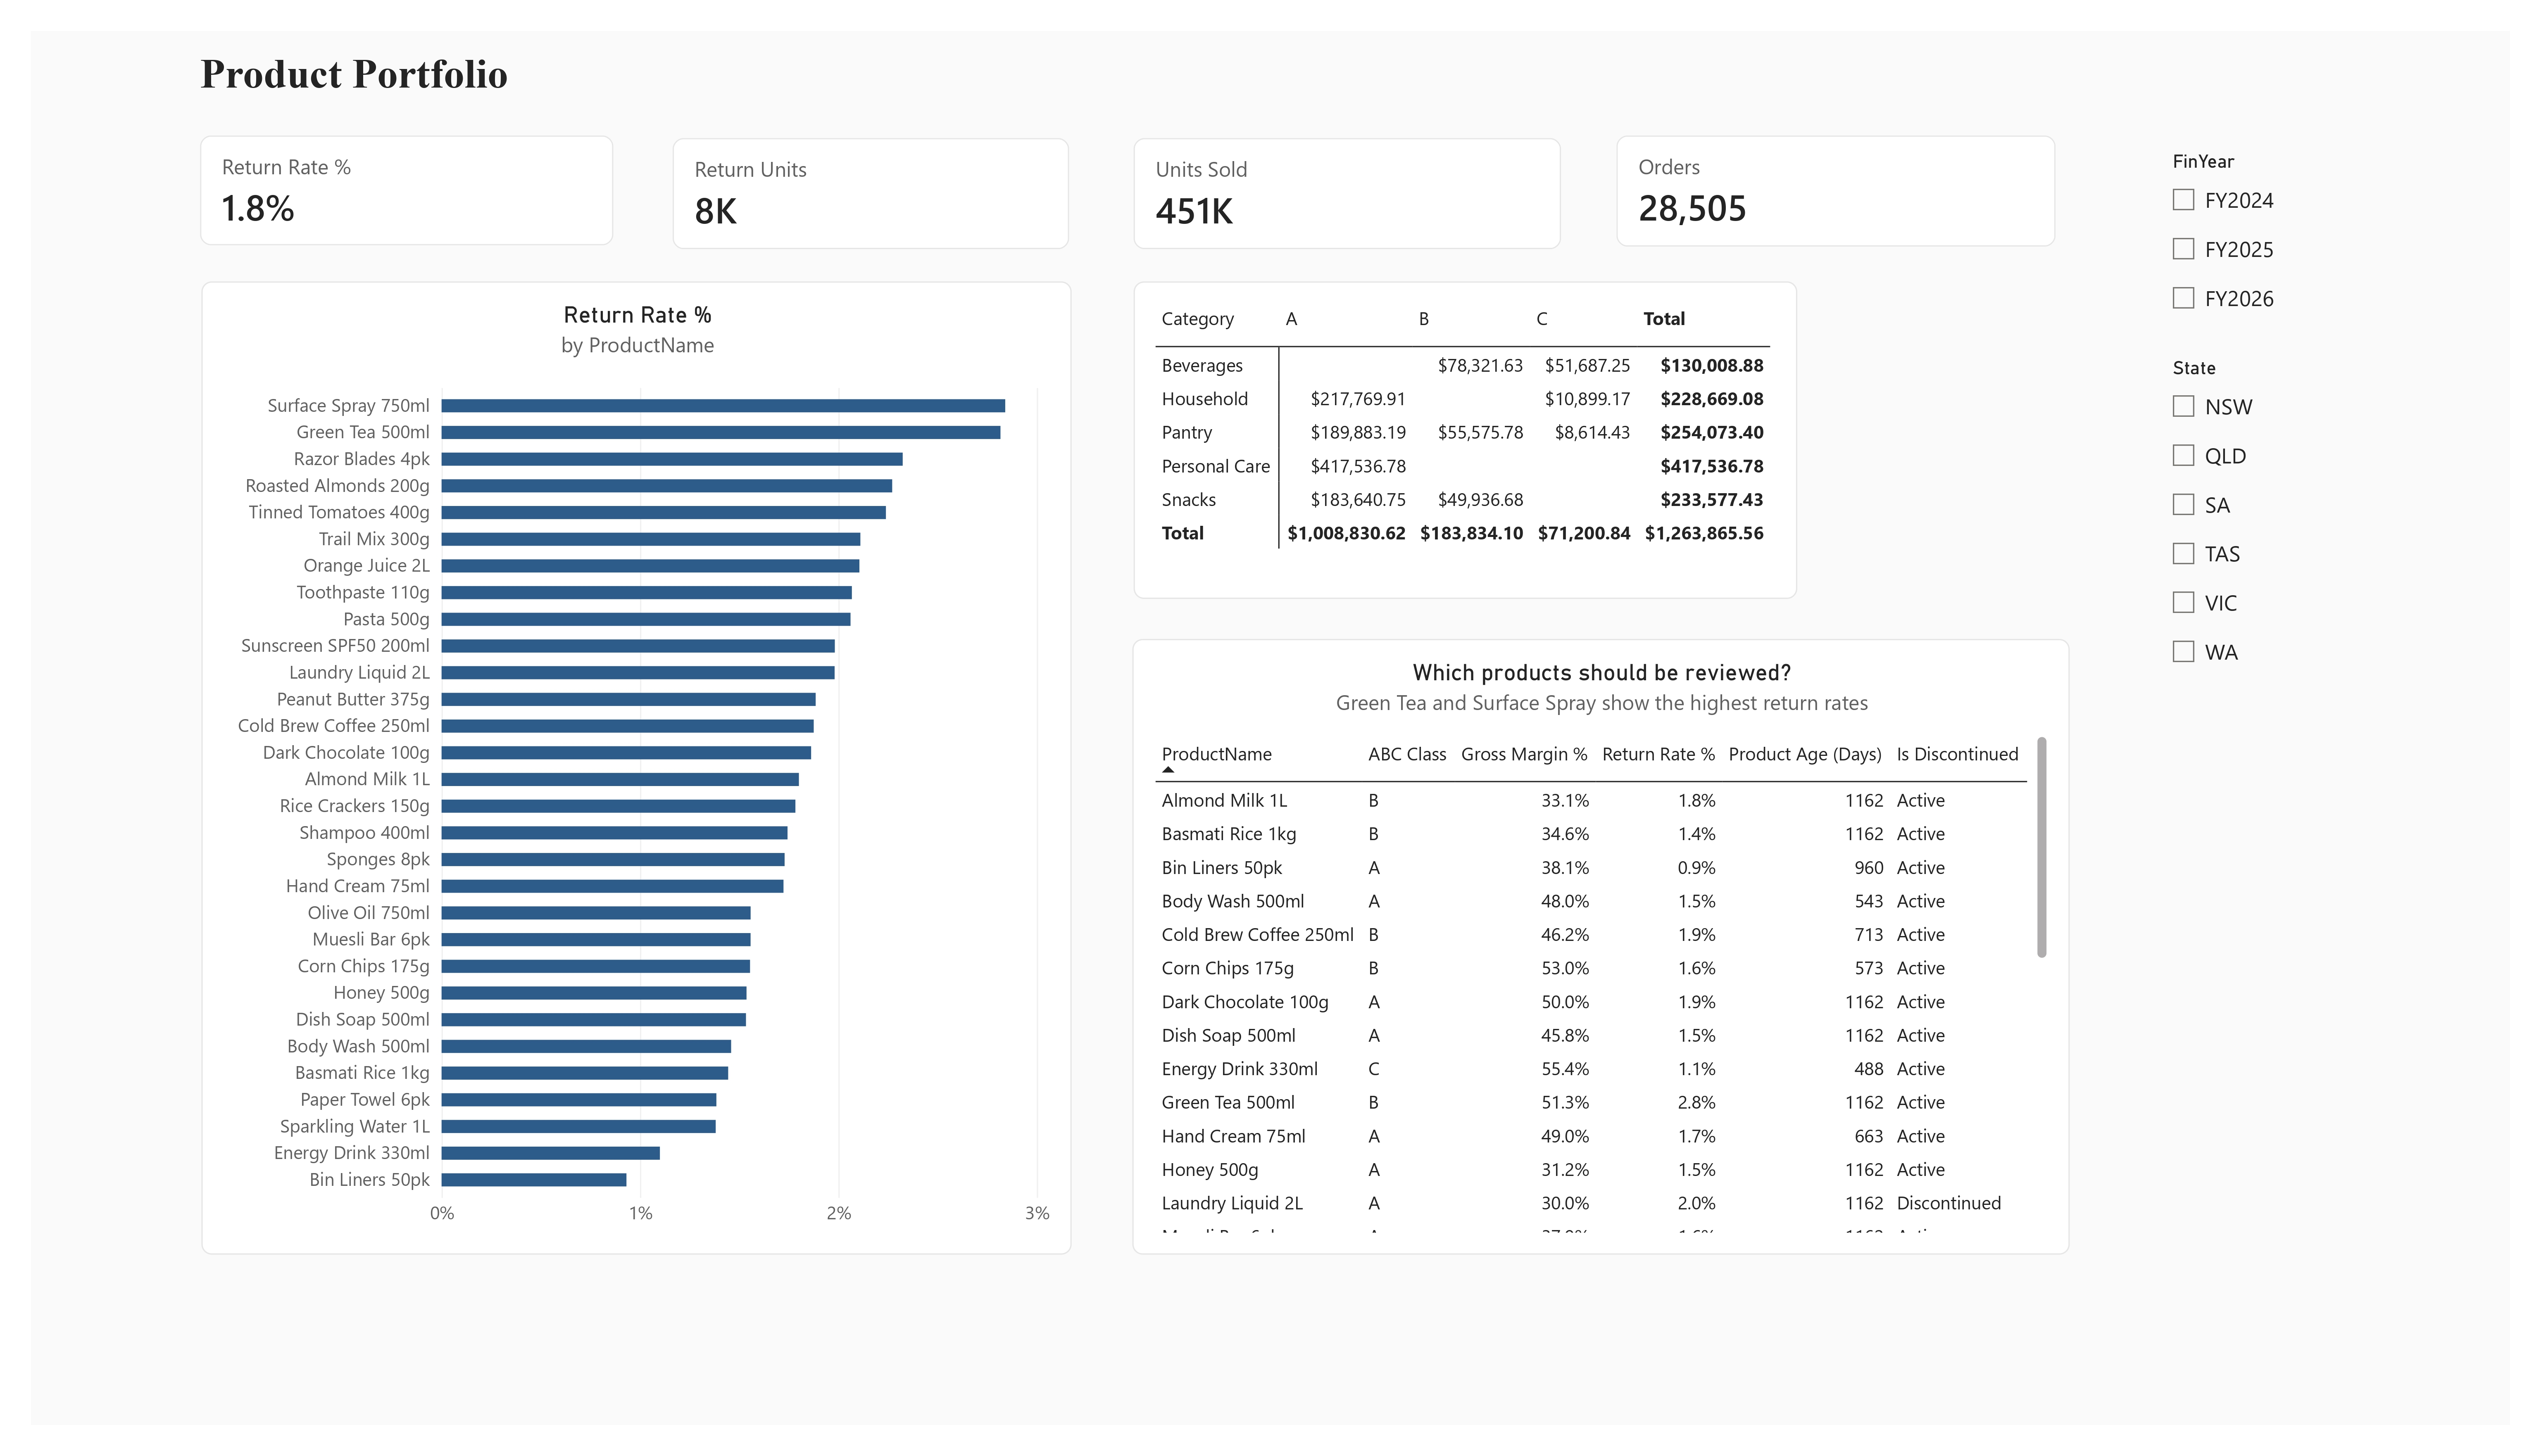

The dashboard page shown, as its layout file describes it:
{"tool":"powerbi","page":{"name":"Product Portfolio","canvas":[1920,1080],"ordinal":4},"visuals":[{"type":"cardVisual","fields":{"Data":["_Measures.Return Rate %"]},"box":[130.7,81,320.2,84.7],"z":0},{"type":"clusteredBarChart","fields":{"Category":["DimProduct.ProductName"],"Y":["_Measures.Return Rate %"]},"box":[132,194,674,754],"z":1000},{"type":"pivotTable","fields":{"Columns":["DimProduct.ABC Class"],"Rows":["DimProduct.Category"],"Values":["_Measures.Gross Profit"]},"box":[854,194,514,246],"z":2000},{"type":"tableEx","title":"Which products should be reviewed?","fields":{"Values":["DimProduct.ProductName","DimProduct.ABC Class","_Measures.Gross Margin %","_Measures.Return Rate %","_Measures.Product Age (Days)","_Measures.Is Discontinued"]},"box":[853.3,470.9,725.8,477],"z":3000},{"type":"textbox","box":[130.7,14.7,1130.1,40.5],"z":4000},{"type":"cardVisual","fields":{"Data":["_Measures.Return Units"]},"box":[496.9,82.8,307.4,86.5],"z":5000},{"type":"cardVisual","fields":{"Data":["_Measures.Orders"]},"box":[1227.6,81,340,86.4],"z":6000},{"type":"cardVisual","fields":{"Data":["_Measures.Units Sold"]},"box":[854,82.8,331.3,86.5],"z":7000},{"type":"slicer","fields":{"Values":["DimDate.FinYear"]},"box":[1651.1,92.5,230,150],"z":8000},{"type":"slicer","fields":{"Values":["DimCustomer.State"]},"box":[1651.1,252.9,230.3,263.2],"z":9000}]}

Visuals, with their boxes on the page's 1920x1080 design canvas (x1, y1, x2, y2). These are canvas units, not pixel positions in the 2541x1456 screenshot, which may show the page scaled, cropped or inside an application window:
cardVisual - _Measures.Return Rate %: <box>131,81,451,166</box>
clusteredBarChart - DimProduct.ProductName x _Measures.Return Rate %: <box>132,194,806,948</box>
pivotTable - DimProduct.ABC Class x DimProduct.Category: <box>854,194,1368,440</box>
"Which products should be reviewed?" tableEx: <box>853,471,1579,948</box>
textbox: <box>131,15,1261,55</box>
cardVisual - _Measures.Return Units: <box>497,83,804,169</box>
cardVisual - _Measures.Orders: <box>1228,81,1568,167</box>
cardVisual - _Measures.Units Sold: <box>854,83,1185,169</box>
slicer - DimDate.FinYear: <box>1651,92,1881,242</box>
slicer - DimCustomer.State: <box>1651,253,1881,516</box>
